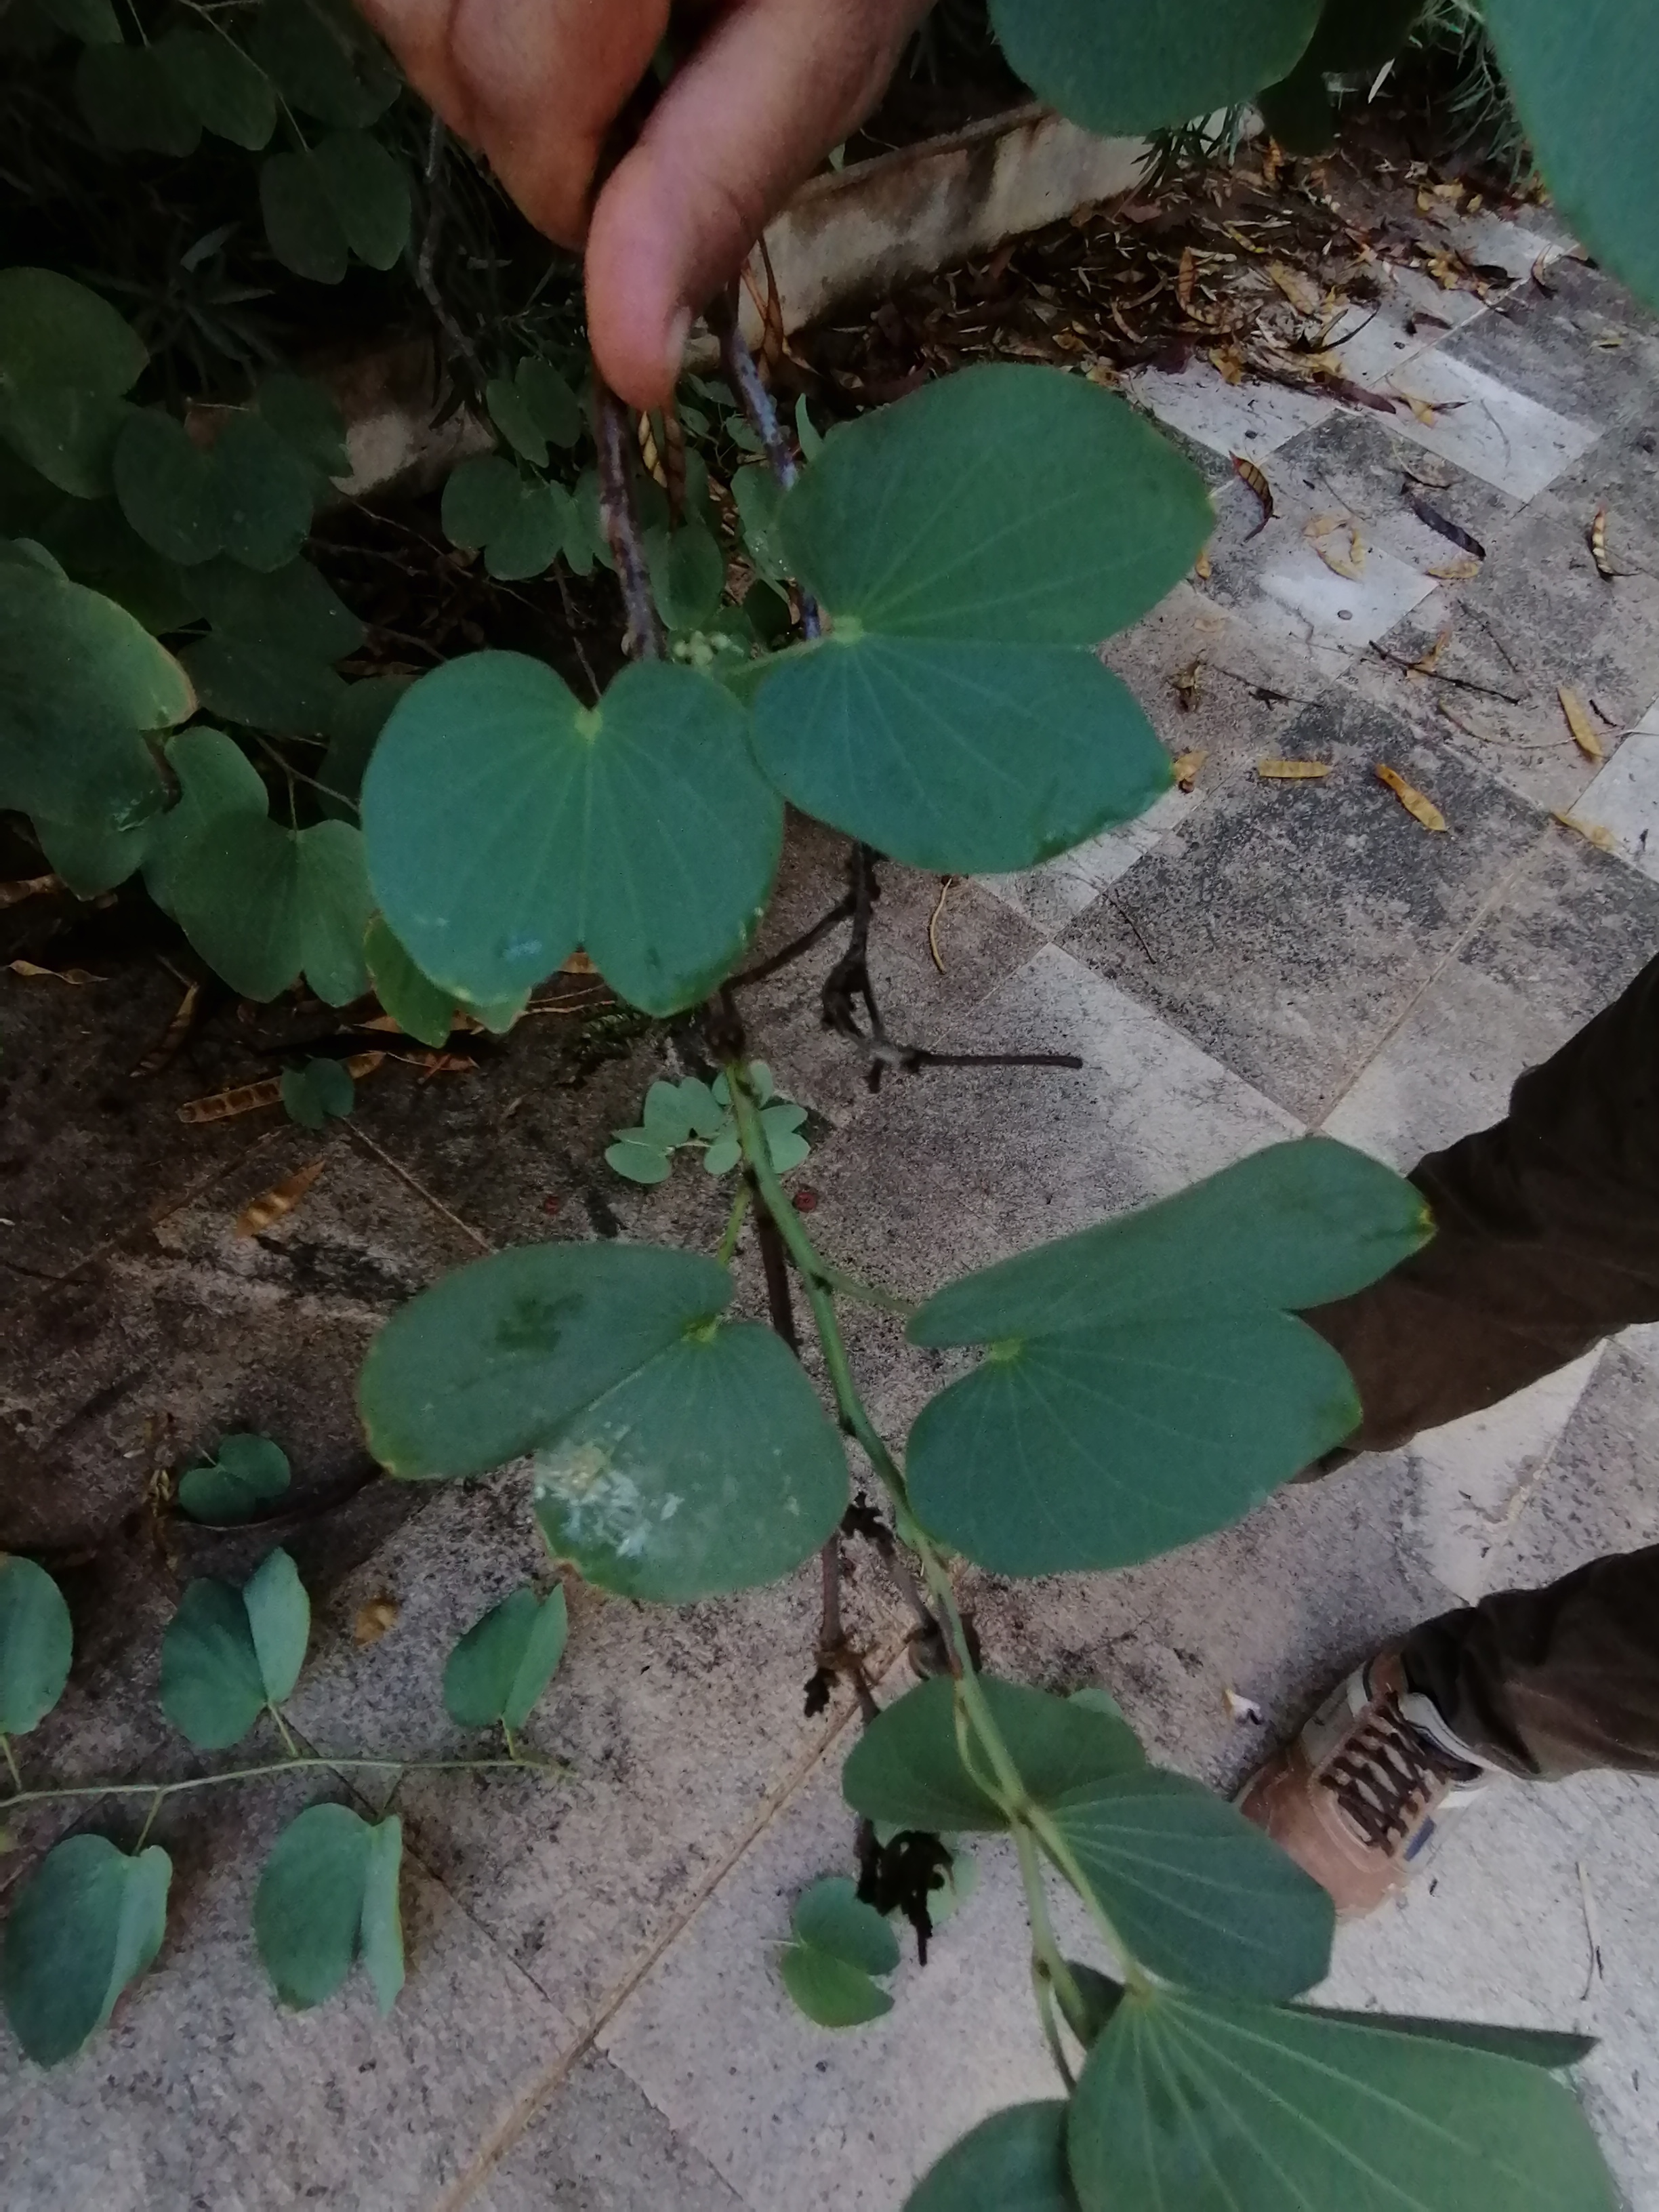healthy: (901, 1141, 1471, 1599), (793, 380, 1175, 855), (366, 669, 758, 991)
